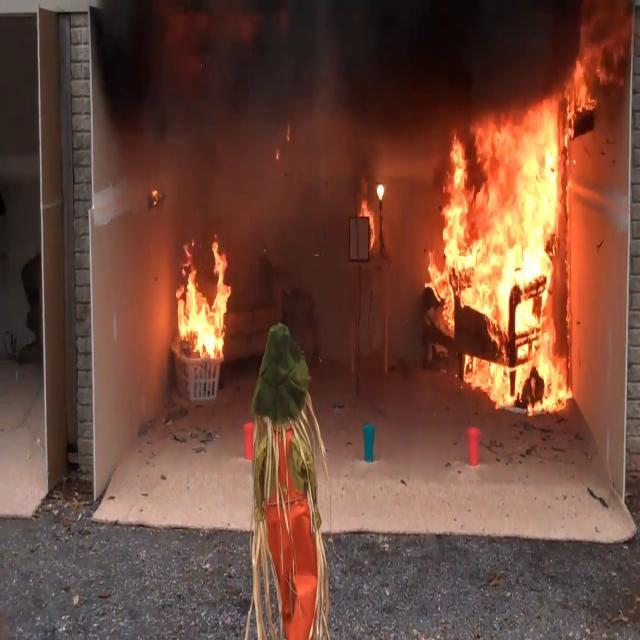Fire: (419, 90, 576, 413), (172, 236, 236, 362), (358, 192, 377, 254)
Smoke: (94, 2, 422, 258)
